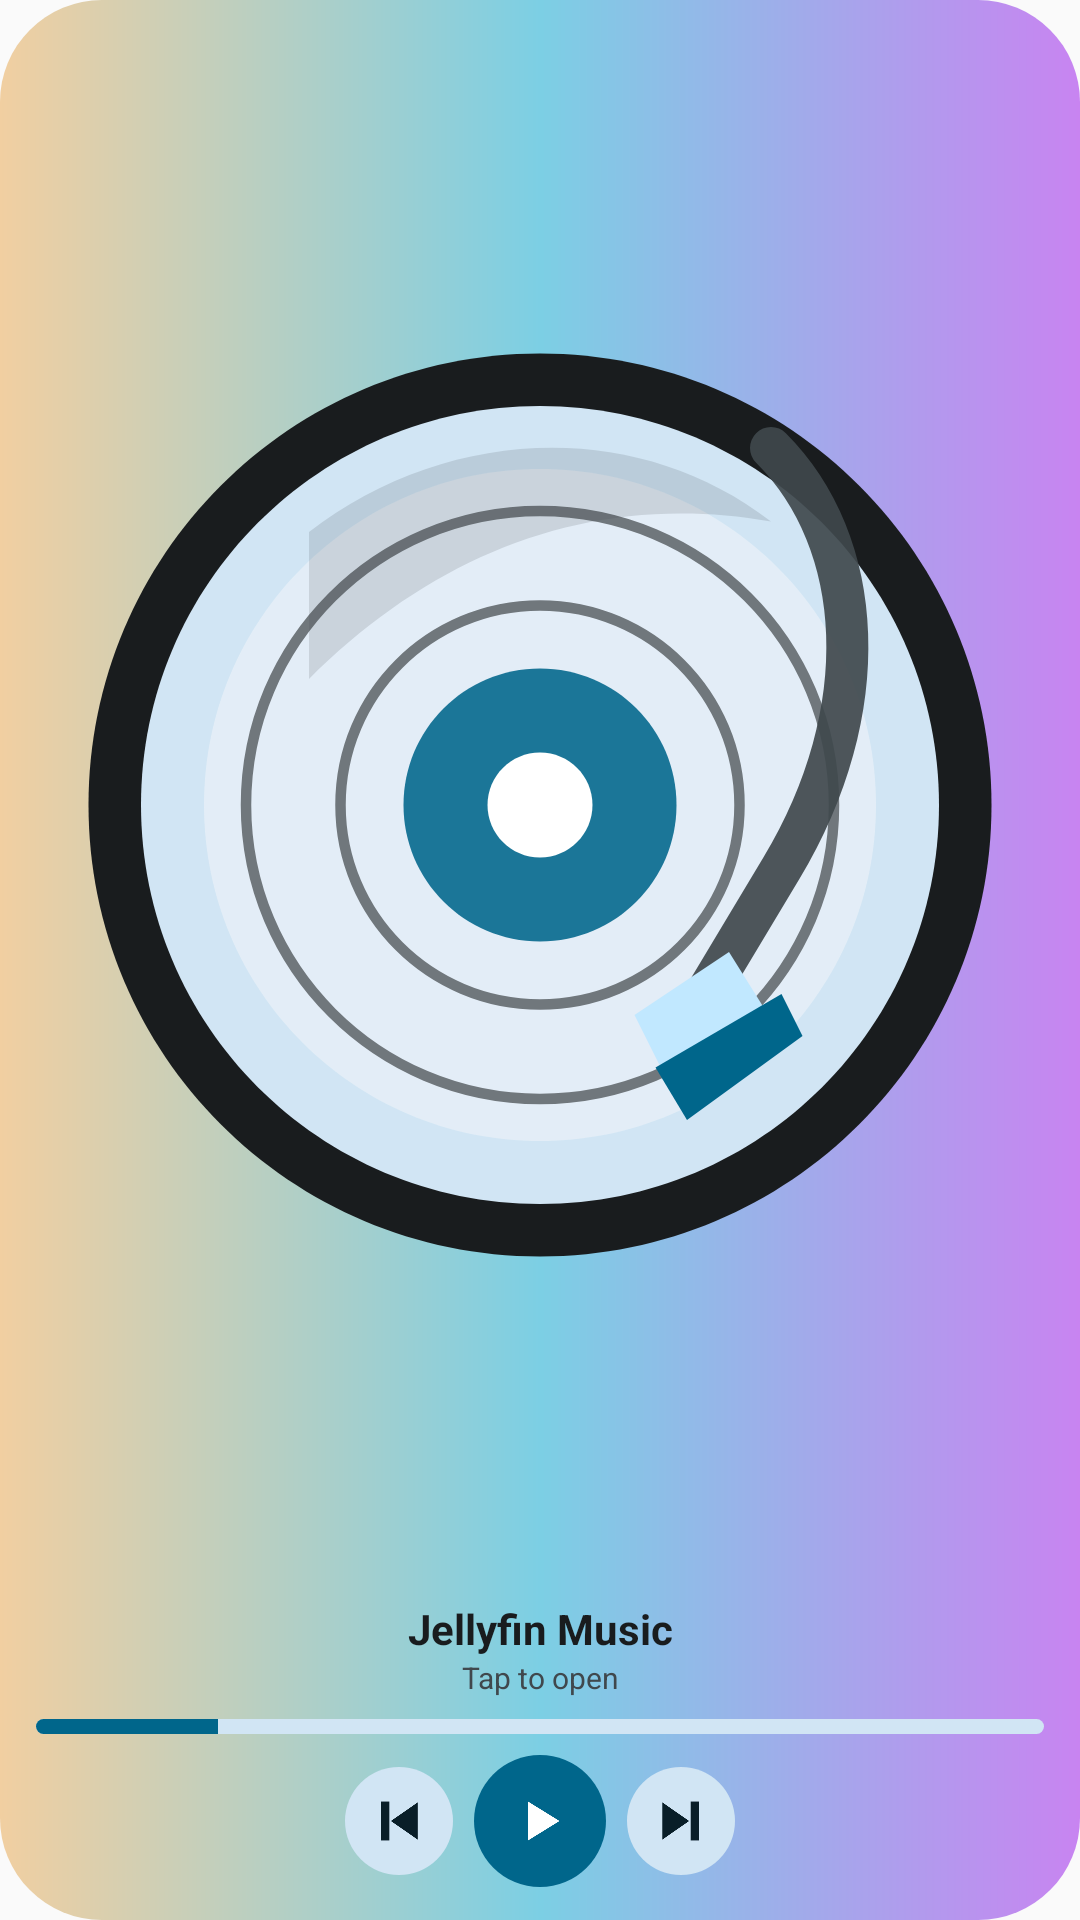

Icon click points for this 1080px x 1920px phone screenshot, format point (x, y):
Next: point (681, 1821)
Play or pause: point (540, 1821)
Previous: point (399, 1821)
